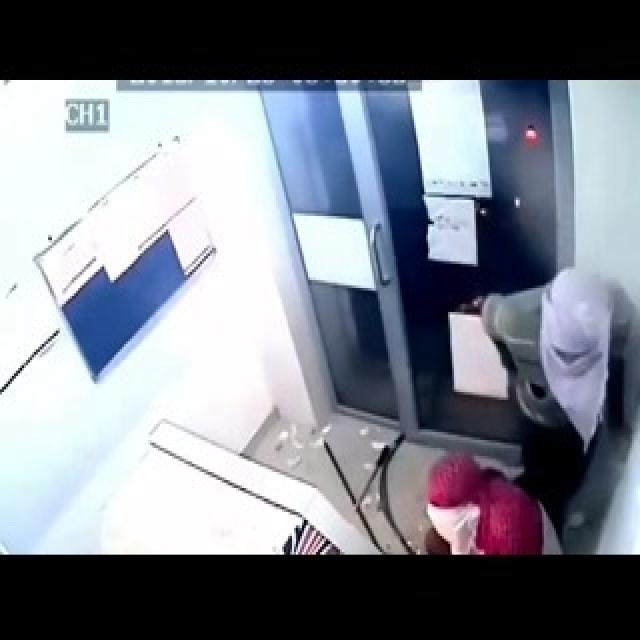thief: (442, 274, 614, 547)
